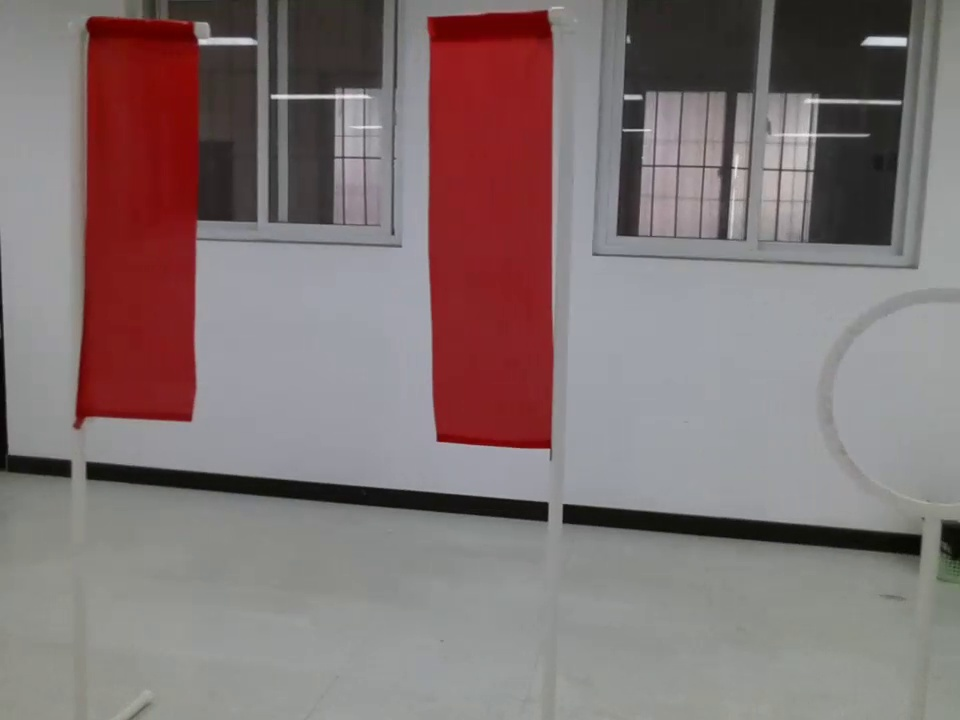qi: (395, 6, 571, 468), (63, 12, 205, 442)
quan: (810, 278, 960, 531)
